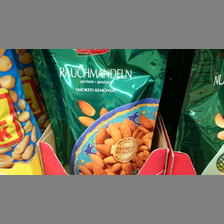nuts: (29, 50, 169, 174)
